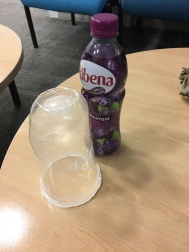bottle_purple: (75, 13, 135, 157)
